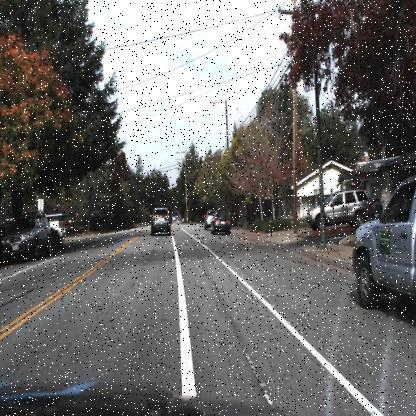car: (352, 155, 416, 316), (304, 180, 379, 236), (0, 210, 53, 261), (145, 198, 176, 240), (210, 208, 233, 237), (202, 208, 216, 232), (202, 208, 213, 234)
